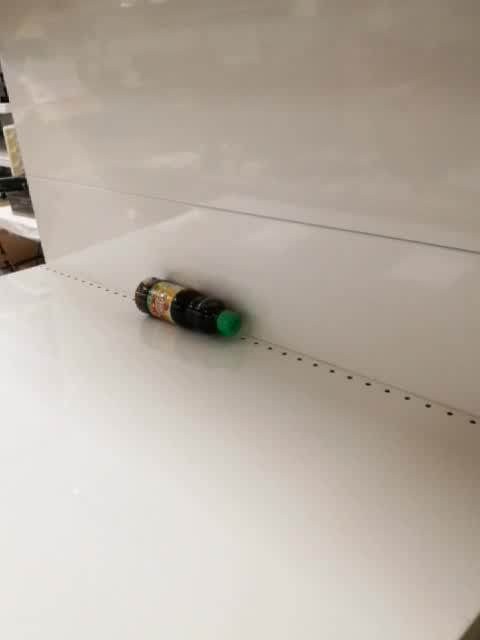cookingoil: (131, 274, 244, 340)
